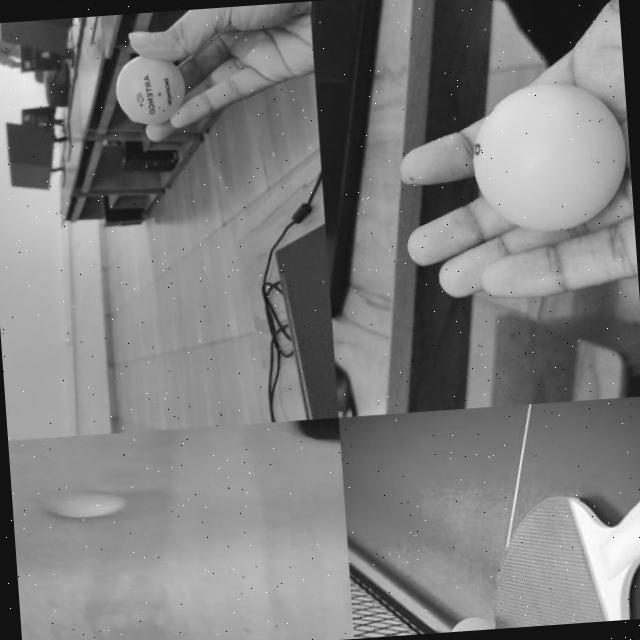ping-pong-ball: (466, 80, 628, 234), (112, 51, 185, 125), (42, 485, 124, 518), (446, 614, 498, 632)
